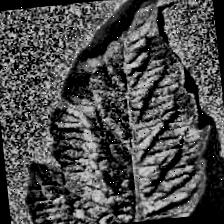spider mites: (8, 0, 220, 224)
